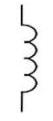inductor: (10, 17, 44, 99)
